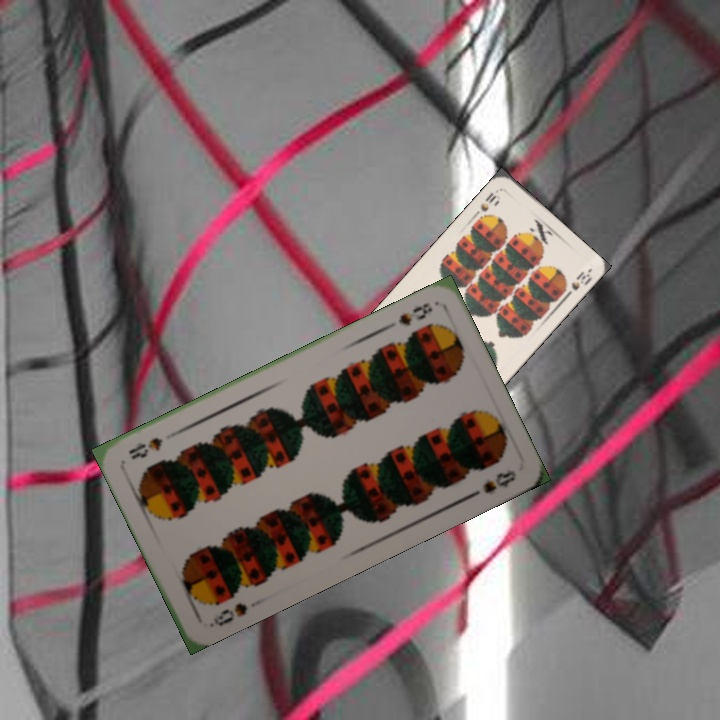S10: (476, 188, 499, 214)
S8: (205, 598, 250, 630), (394, 298, 435, 329)
